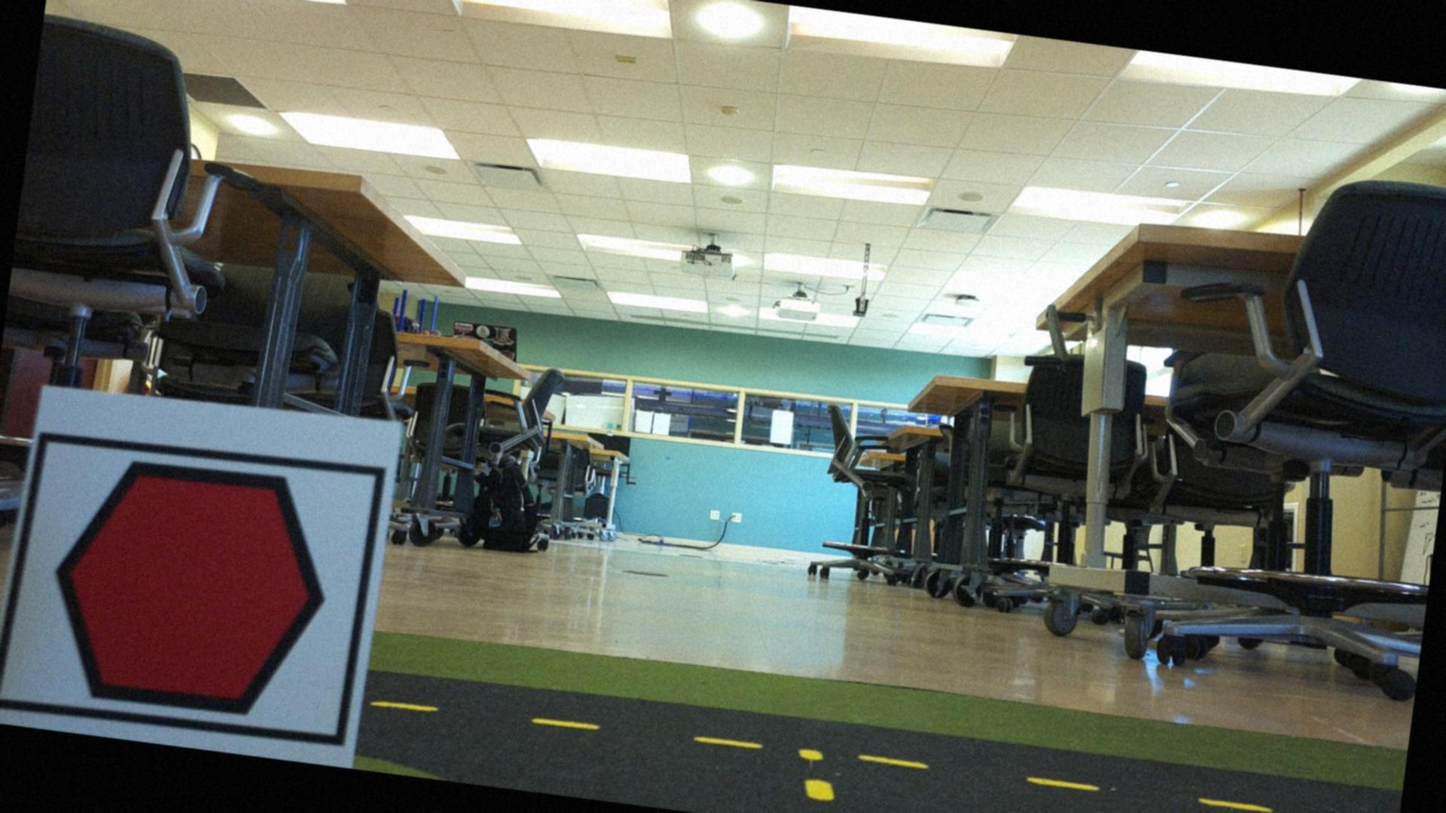stop: (20, 440, 356, 741)
yellowline: (375, 693, 1393, 812), (792, 744, 843, 805)
